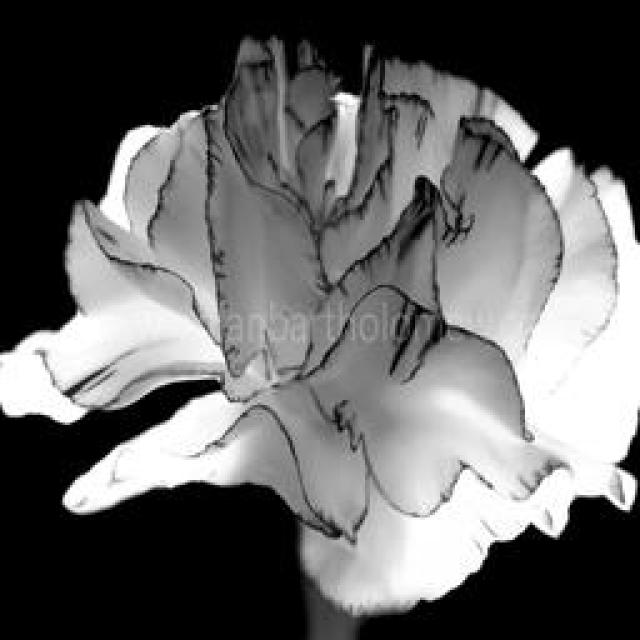carnation: (4, 31, 640, 594)
